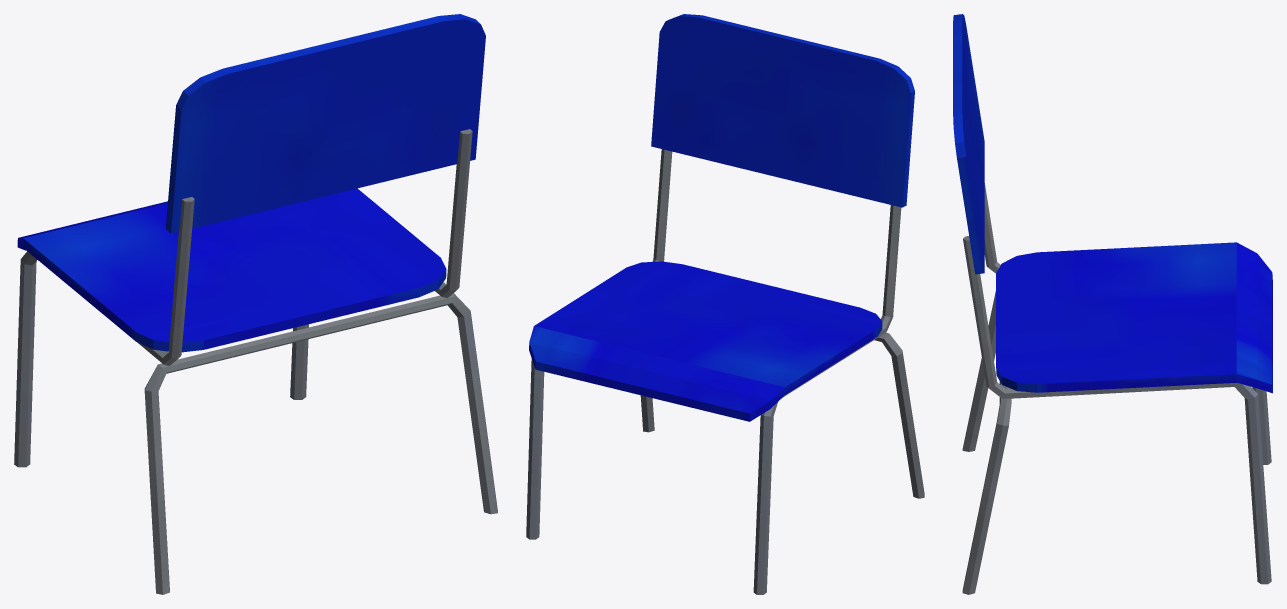
Rendered from Cadeira_Escolar.fbx.
The picture shows the model from 3 angles, left to right: view 1: azimuth 30°, elevation 25°; view 2: azimuth 150°, elevation 25°; view 3: azimuth 270°, elevation 25°; orthographic projection. The views are drawn at different scales.
Parts seen in each view (by area): view 1: Cadeira; view 2: Cadeira; view 3: Cadeira.
Boxes of the visible parts, left/top/right/bottom form: Cadeira: left=14, top=14, right=497, bottom=594; Cadeira: left=526, top=14, right=924, bottom=594; Cadeira: left=953, top=14, right=1272, bottom=594.
Size of the model in its own units: 28.04 by 40.24 by 25.64.
1 material, 1 textured.
